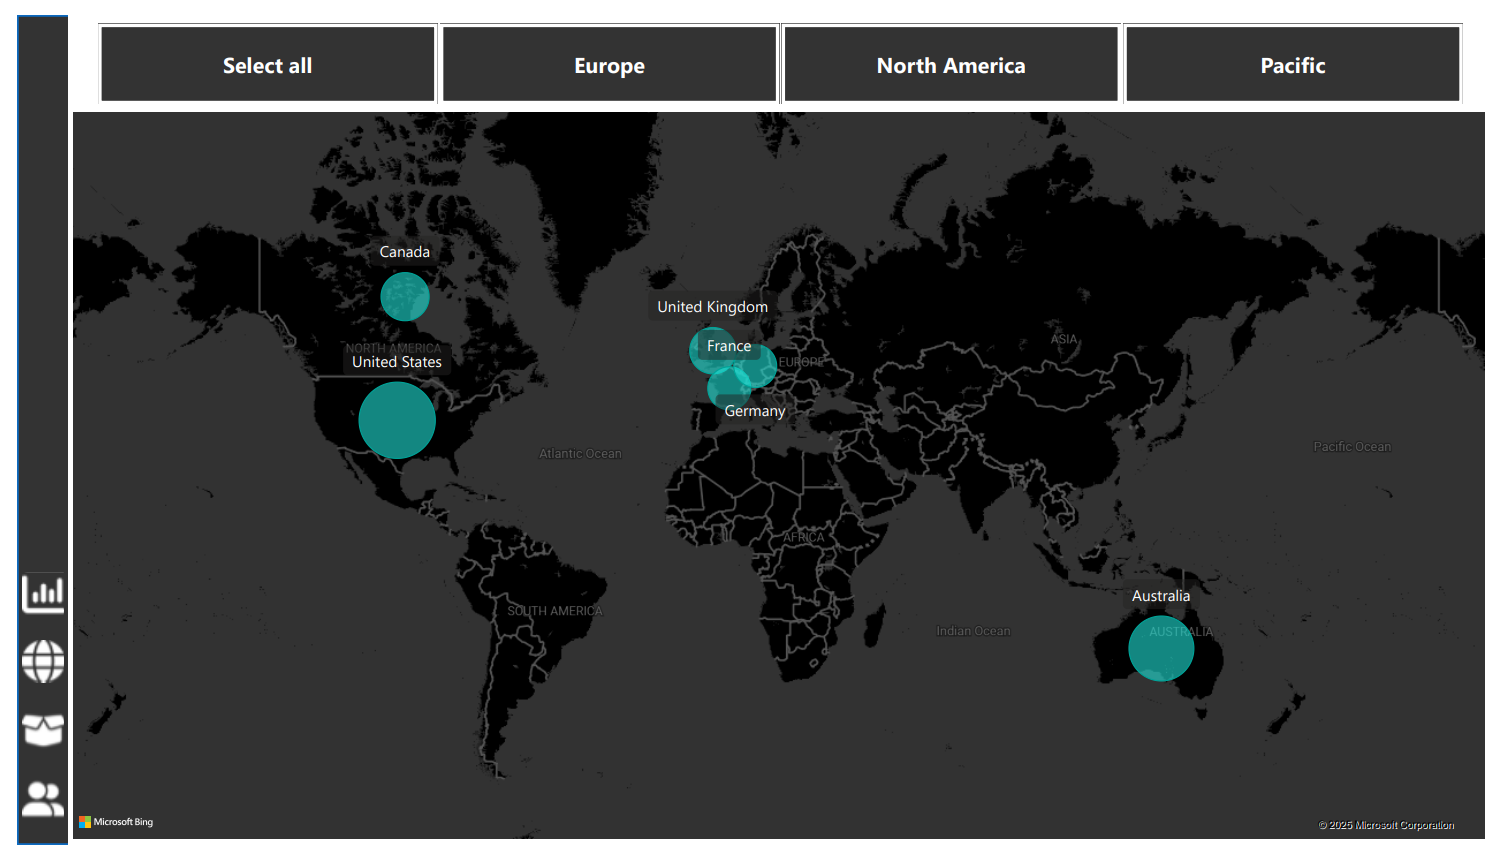

What the dashboard file says about the page in this screenshot:
{"tool":"powerbi","page":{"name":"Map","canvas":[1280,720],"ordinal":1},"visuals":[{"type":"shape","box":[0,0,45,720],"z":0},{"type":"actionButton","box":[0,477.1,44.3,50],"z":0,"group":"g1"},{"type":"map","fields":{"Category":["Territory Lookup.Country"],"Size":["Measure Table.Total Orders"]},"box":[44.3,74.3,1235.7,645.7],"z":1000},{"type":"actionButton","box":[0,595.9,44.3,50],"z":1000,"group":"g1"},{"type":"slicer","fields":{"Values":["Territory Lookup.Continent"]},"box":[44.3,0,1235.7,84.3],"z":2000},{"type":"actionButton","box":[0,655.2,44.3,50],"z":2000,"group":"g1"},{"type":"actionButton","box":[0,536.5,44.3,50],"z":3000,"group":"g1"},{"type":"group","id":"g1","title":"Navigation Button","box":[0,477.1,44.3,228.1],"z":3000}]}

Visuals, with their boxes in screenshot pixels (x1, y1, x2, y2):
shape: <region>12, 20, 62, 824</region>
actionButton: <region>12, 553, 61, 609</region>
map - Territory Lookup.Country x Measure Table.Total Orders: <region>61, 103, 1442, 824</region>
actionButton: <region>12, 686, 61, 741</region>
slicer - Territory Lookup.Continent: <region>61, 20, 1442, 114</region>
actionButton: <region>12, 752, 61, 808</region>
actionButton: <region>12, 619, 61, 675</region>
"Navigation Button" group: <region>12, 553, 61, 808</region>
